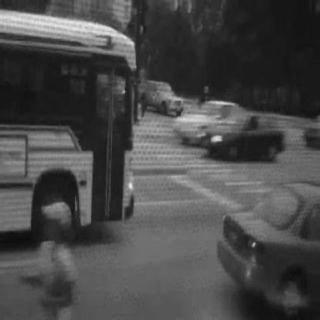other: (201, 128, 228, 158)
